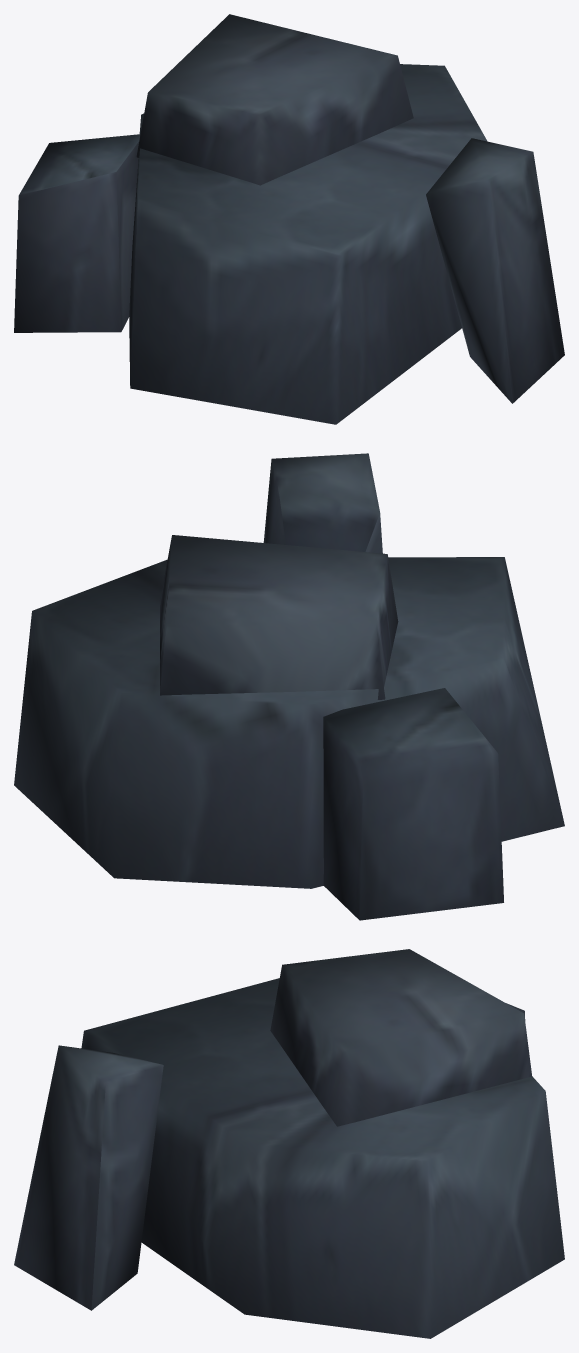
Rendered from Area_10_8.fbx.
3 views of the same model, one above another, from view 1: azimuth 30°, elevation 25°; view 2: azimuth 150°, elevation 25°; view 3: azimuth 270°, elevation 25° (orthographic). The views are drawn at different scales.
Visible parts, largest first — view 1: Area_10_8; view 2: Area_10_8; view 3: Area_10_8.
Boxes of the visible parts, <box> form: Area_10_8: <box>14,14,564,424</box>; Area_10_8: <box>14,453,564,920</box>; Area_10_8: <box>14,949,564,1338</box>.
Bounding box in the file's own units: 575 × 278 × 588.
